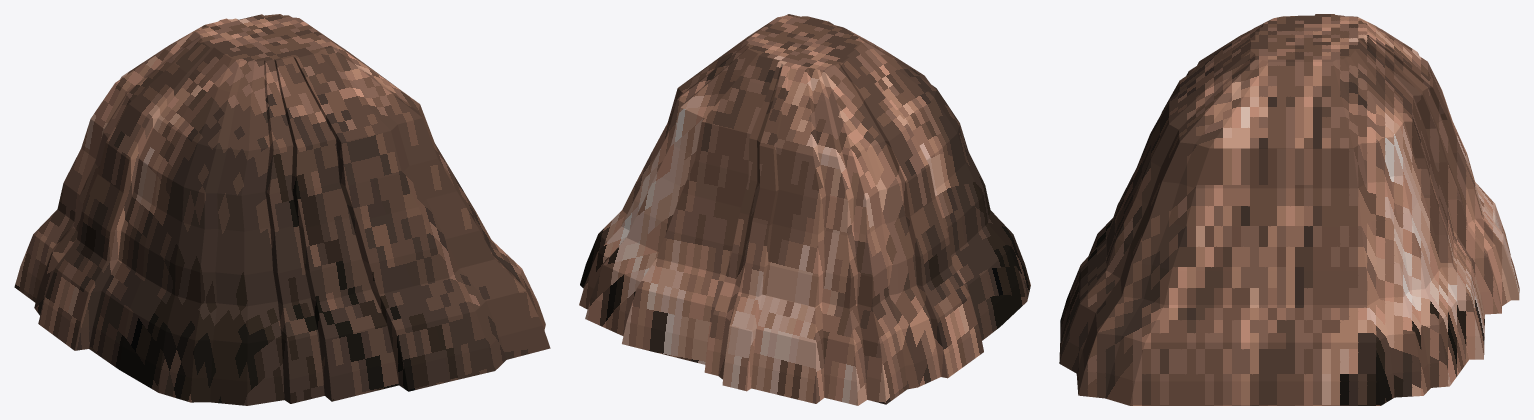
Rendered from boulder_343x01.gltf.
3 renders of one model, left to right at view 1: azimuth 30°, elevation 25°; view 2: azimuth 150°, elevation 25°; view 3: azimuth 270°, elevation 25°, orthographic. The views are drawn at different scales.
Visible parts, largest first — view 1: Boulder_343x1; view 2: Boulder_343x1; view 3: Boulder_343x1.
Boxes of the visible parts, x1,y1,x2,y2 form: Boulder_343x1: [14, 14, 550, 405]; Boulder_343x1: [579, 14, 1030, 405]; Boulder_343x1: [1059, 14, 1519, 405].
Bounding box in the file's own units: 4.41 × 2.98 × 4.57.
Materials: 1 (1 with a texture image).
